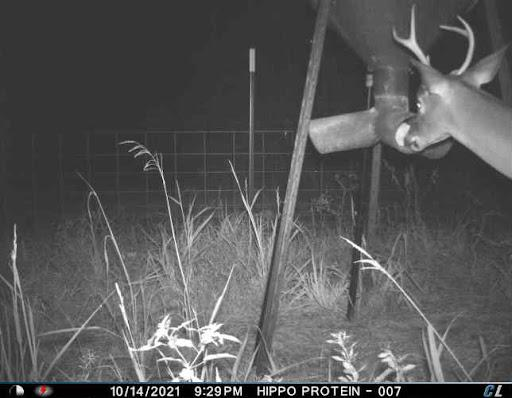Deer: (384, 0, 512, 191)
